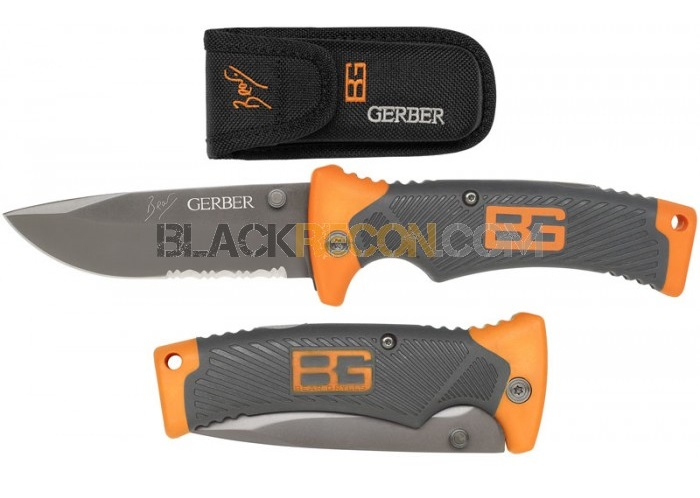knife: (1, 160, 364, 308)
